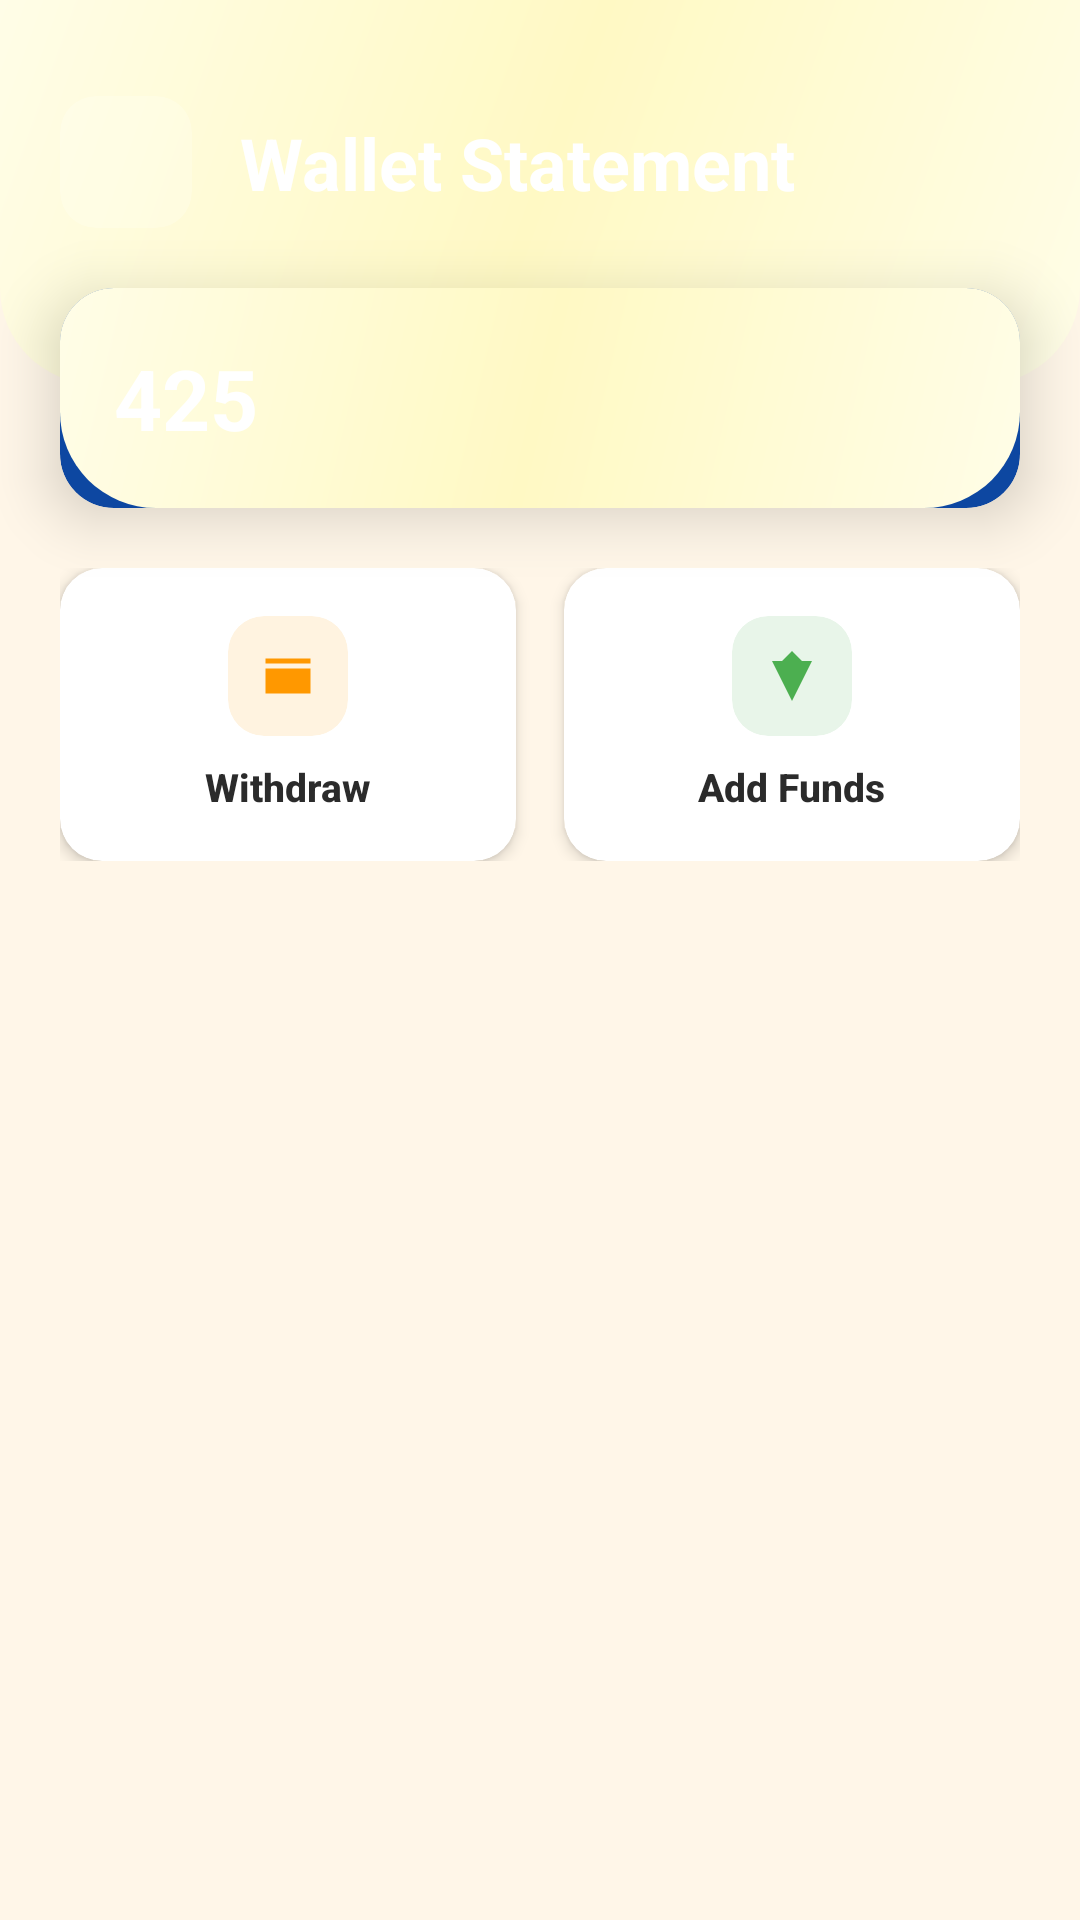

Named icons in this screenshot (1080px×1920px) and their centers, point (x, y):
diamond: point (792, 676)
wallet: point (288, 676)
